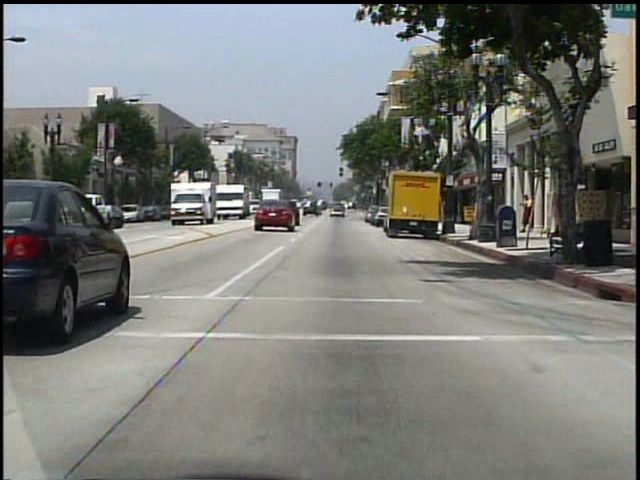person: (521, 194, 532, 235)
